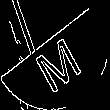M_NW: (27, 21, 83, 89)
